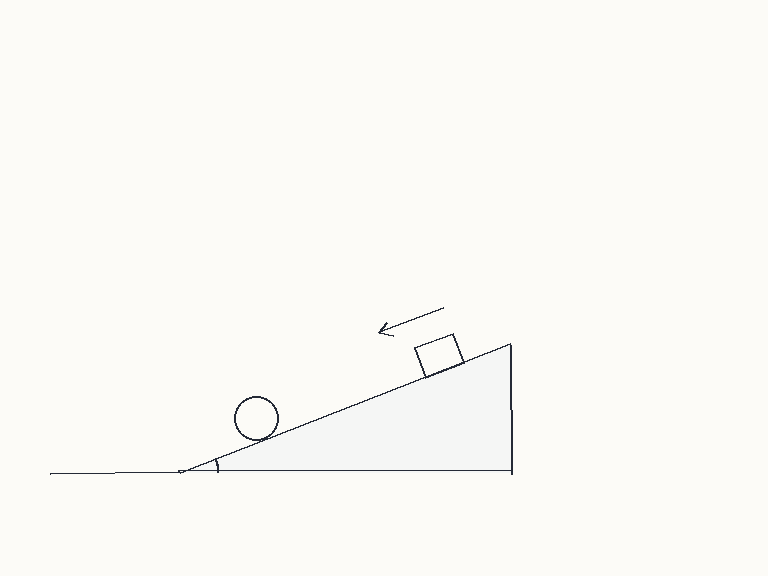ball: (232, 394, 280, 442)
block: (412, 332, 466, 379)
ramp: (176, 342, 512, 474)
